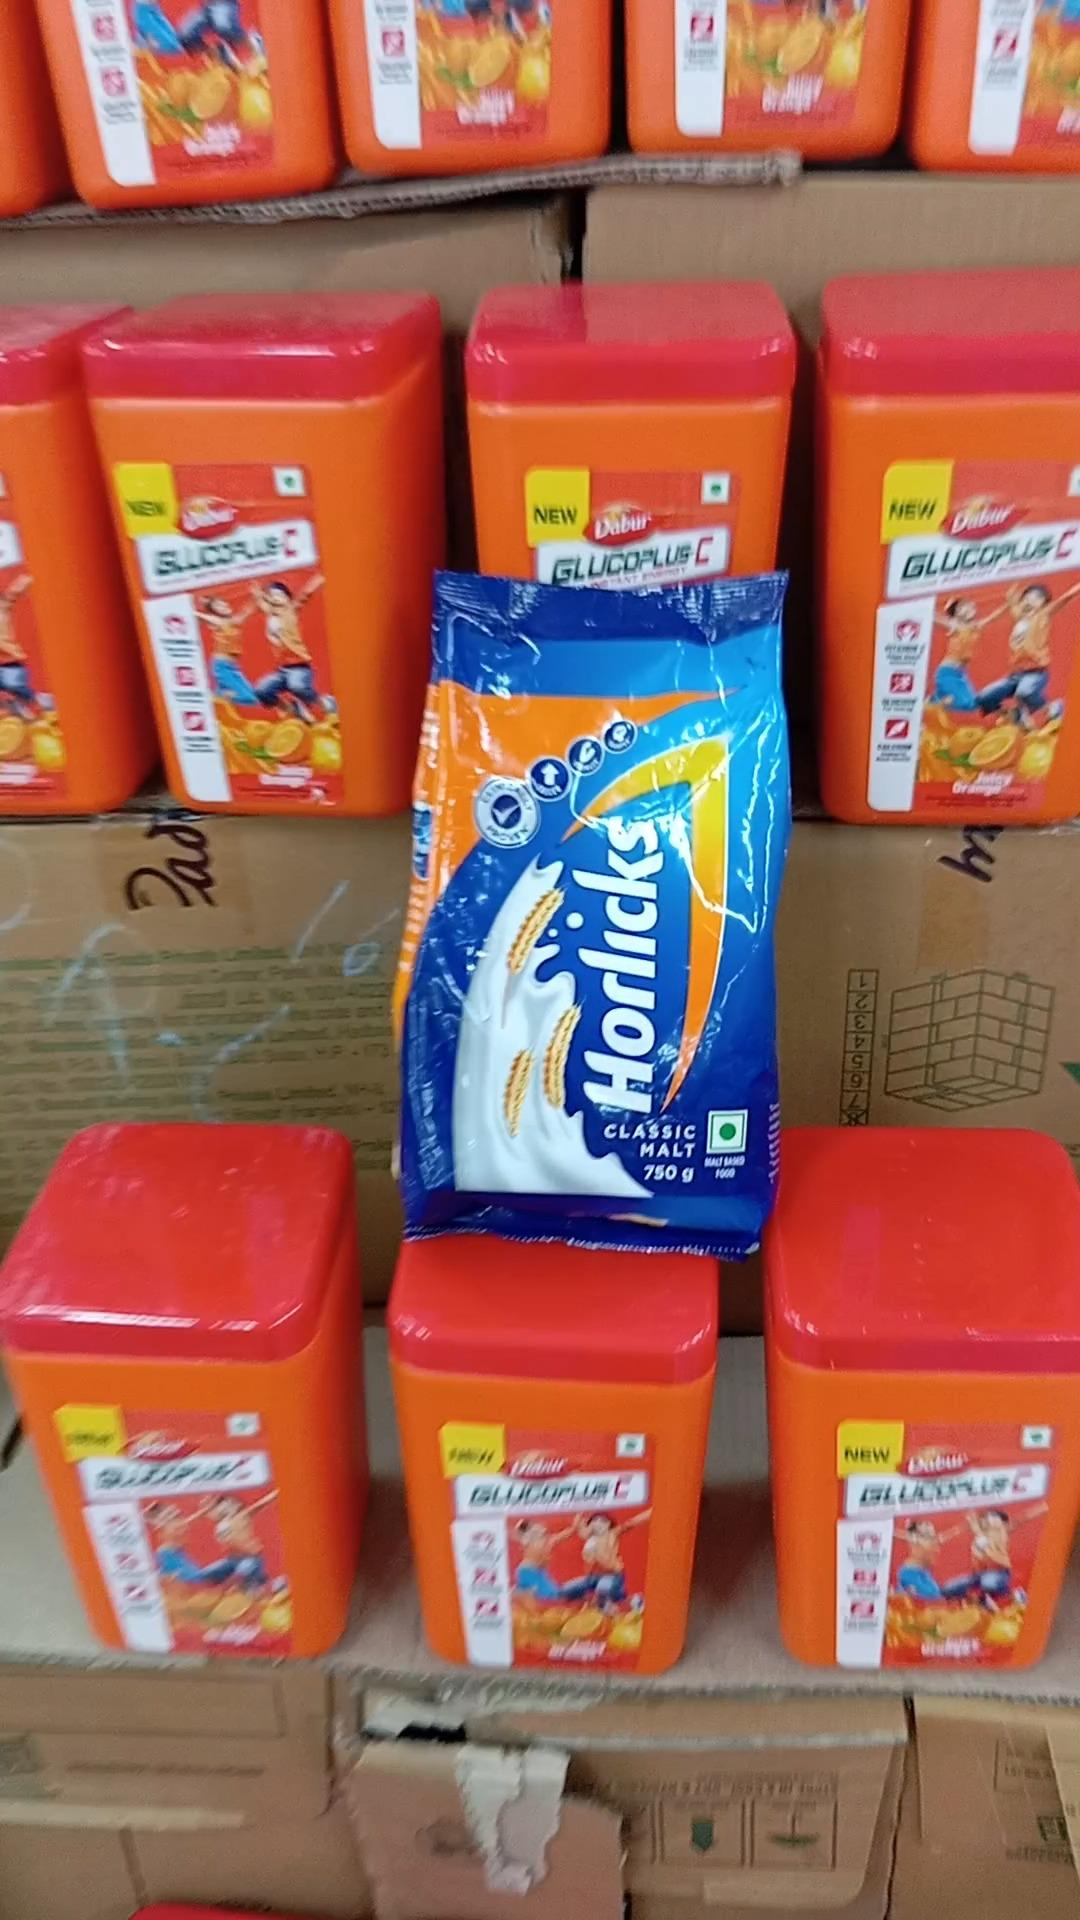HORLICK_CLASSIC_MALT_750_G_POUCH: (397, 549, 793, 1250)
